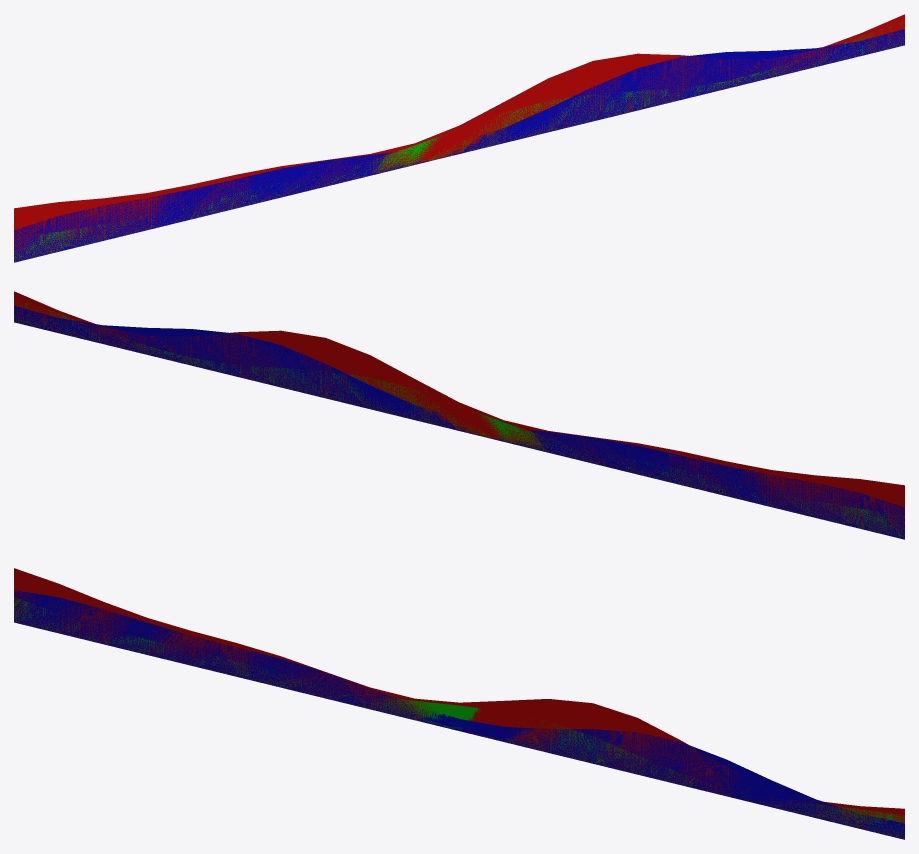
The model's file is far_hills_a.glb.
3 views of the same model, one above another, from view 1: azimuth 30°, elevation 25°; view 2: azimuth 150°, elevation 25°; view 3: azimuth 330°, elevation 25° (orthographic).
Parts seen in each view (by area): view 1: far_hills_a; view 2: far_hills_a; view 3: far_hills_a.
Part boxes in pixels (<box>): far_hills_a: <box>14,14,904,262</box>; far_hills_a: <box>14,291,904,539</box>; far_hills_a: <box>14,568,904,839</box>.
Bounding box in the file's own units: 8 × 0.52 × 0.
